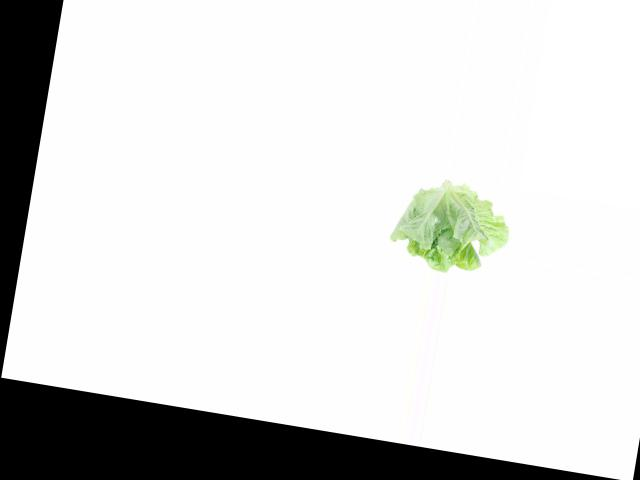lettuce: (384, 176, 514, 281)
